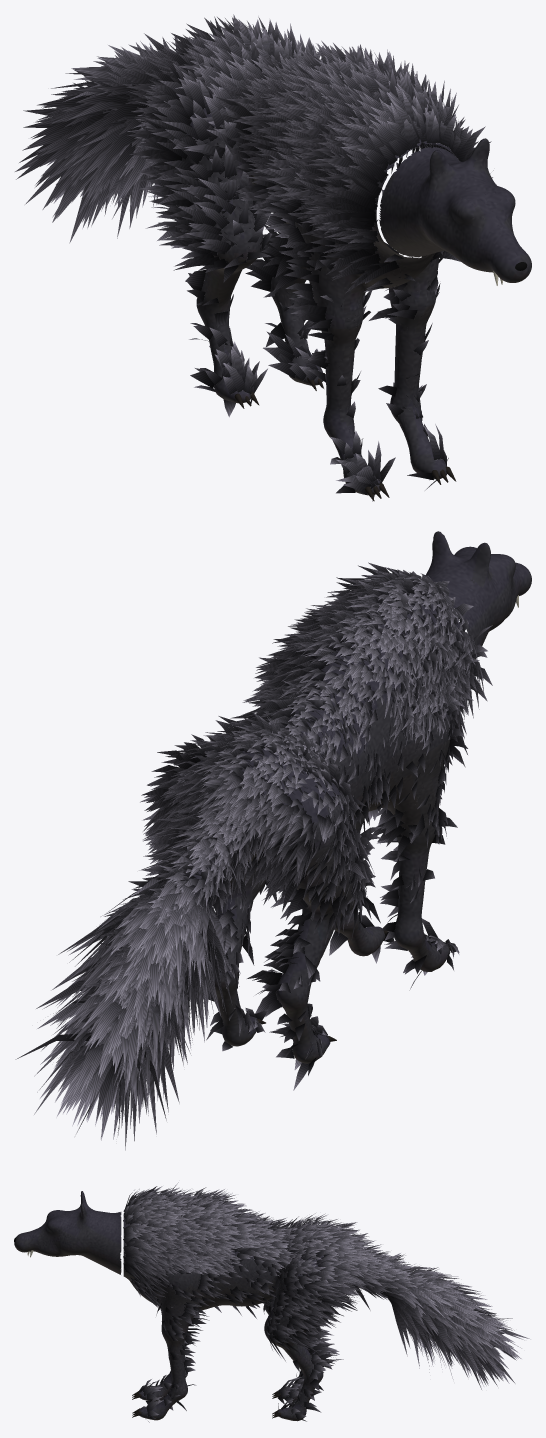
The model's file is mon_shadow_direwolf_alpha.glb.
The picture shows the model from 3 angles, top to bottom: view 1: azimuth 30°, elevation 25°; view 2: azimuth 150°, elevation 25°; view 3: azimuth 270°, elevation 25°; orthographic projection. The views are drawn at different scales.
Visible parts, largest first — view 1: torso_wolf_fur_cards, tail_wolf_fur_cards, leg_r_wolf_fur_cards, head_wolf_fur, arm_r_wolf_fur_cards, head_wolf_fur_cards, shin_r_wolf_fur_cards, forearm_l_wolf_fur, shin_l_wolf_fur_cards, forearm_r_wolf_fur, shin_r_wolf_fur, arm_r_wolf_fur (+7 smaller); view 2: tail_wolf_fur_cards, torso_wolf_fur_cards, leg_r_wolf_fur_cards, arm_r_wolf_fur_cards, head_wolf_fur, torso_wolf_fur, shin_r_wolf_fur_cards, arm_r_wolf_fur, shin_r_wolf_fur, forearm_r_wolf_fur, leg_r_wolf_fur, shin_l_wolf_fur (+5 smaller); view 3: tail_wolf_fur_cards, torso_wolf_fur_cards, leg_l_wolf_fur_cards, head_wolf_fur, arm_l_wolf_fur_cards, arm_l_wolf_fur, head_wolf_fur_cards, shin_l_wolf_fur_cards, torso_wolf_fur, forearm_l_wolf_fur, shin_l_wolf_fur, leg_l_wolf_fur (+4 smaller).
Part boxes in pixels (x1,y1,x2,y2): torso_wolf_fur_cards: (214, 19, 496, 280); tail_wolf_fur_cards: (15, 14, 279, 243); leg_r_wolf_fur_cards: (127, 43, 281, 249); head_wolf_fur: (371, 138, 531, 282); arm_r_wolf_fur_cards: (238, 121, 406, 331); head_wolf_fur_cards: (327, 72, 493, 236); shin_r_wolf_fur_cards: (145, 222, 271, 417); forearm_l_wolf_fur: (390, 299, 446, 478); shin_l_wolf_fur_cards: (245, 224, 318, 380); forearm_r_wolf_fur: (321, 318, 380, 495); shin_r_wolf_fur: (196, 233, 262, 403); arm_r_wolf_fur: (295, 204, 406, 328); tail_wolf_fur_cards: (15, 733, 296, 1150); torso_wolf_fur_cards: (210, 567, 492, 823); leg_r_wolf_fur_cards: (262, 740, 381, 922); arm_r_wolf_fur_cards: (354, 641, 487, 846); head_wolf_fur: (412, 531, 531, 658); torso_wolf_fur: (242, 602, 445, 817); shin_r_wolf_fur_cards: (247, 882, 380, 1090); arm_r_wolf_fur: (361, 667, 450, 834); shin_r_wolf_fur: (276, 888, 361, 1063); forearm_r_wolf_fur: (394, 829, 450, 971); leg_r_wolf_fur: (280, 763, 357, 905); shin_l_wolf_fur: (212, 873, 267, 1046); tail_wolf_fur_cards: (312, 1213, 530, 1389); torso_wolf_fur_cards: (124, 1182, 326, 1310); leg_l_wolf_fur_cards: (248, 1232, 358, 1339); head_wolf_fur: (14, 1191, 129, 1276); arm_l_wolf_fur_cards: (133, 1229, 226, 1336); arm_l_wolf_fur: (137, 1271, 222, 1336); head_wolf_fur_cards: (123, 1186, 164, 1280); shin_l_wolf_fur_cards: (236, 1305, 343, 1421); torso_wolf_fur: (124, 1238, 292, 1306); forearm_l_wolf_fur: (139, 1332, 187, 1420); shin_l_wolf_fur: (241, 1306, 323, 1421); leg_l_wolf_fur: (242, 1253, 322, 1335).
Size of the model in its own units: 0.7843 by 1.44 by 2.81.
6 materials, 6 textured.
